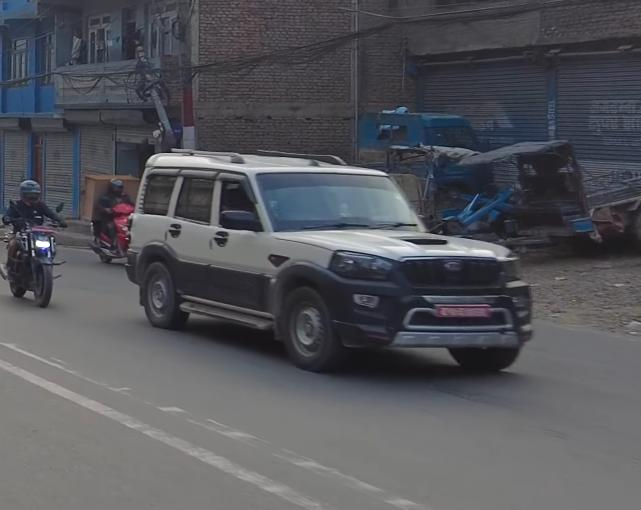SUV: (122, 145, 540, 381)
bike: (3, 208, 67, 314)
scooter: (88, 203, 136, 267)
